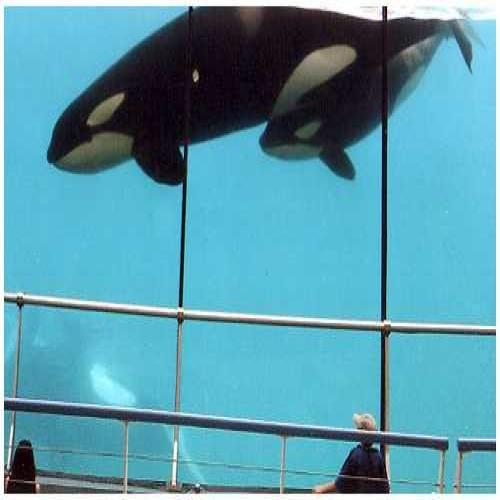killer_whale-endangered: (42, 3, 343, 182), (257, 14, 466, 193)
